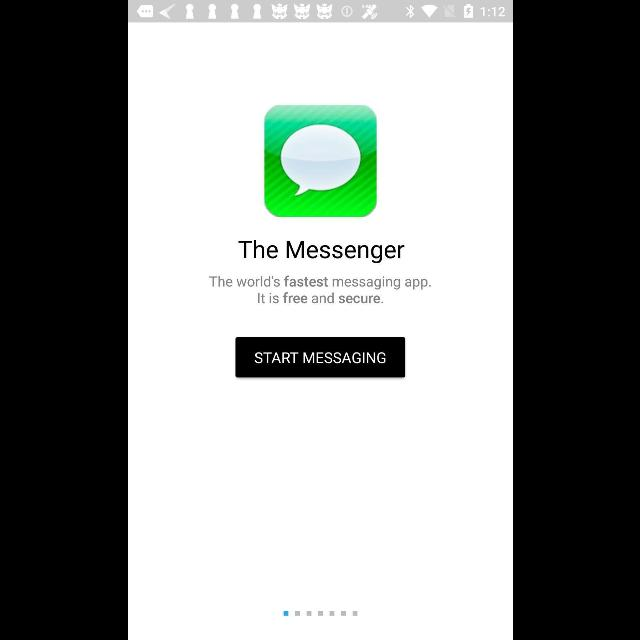image: (263, 104, 377, 218)
pageindicator: (283, 610, 357, 616)
text: (208, 276, 430, 304), (237, 240, 405, 264)
textbutton: (235, 337, 405, 377)
uppertaskbar: (128, 1, 512, 23)
